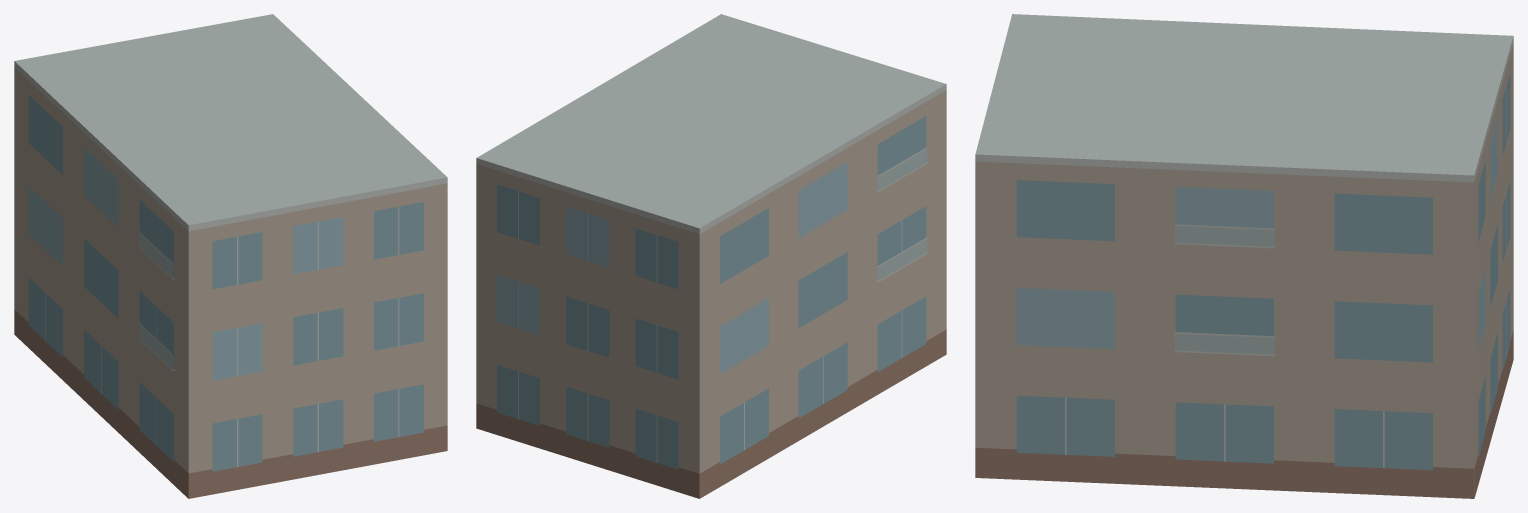
File: survey-upis-32496359.glb
The picture shows the model from 3 angles, left to right: view 1: azimuth 30°, elevation 25°; view 2: azimuth 150°, elevation 25°; view 3: azimuth 270°, elevation 25°; orthographic projection. The views are drawn at different scales.
Visible parts, largest first — view 1: survey-upis-32496359.tmp; view 2: survey-upis-32496359.tmp; view 3: survey-upis-32496359.tmp.
Part boxes in pixels (left/top/right/bottom): survey-upis-32496359.tmp: left=14, top=14, right=447, bottom=498; survey-upis-32496359.tmp: left=476, top=14, right=946, bottom=498; survey-upis-32496359.tmp: left=975, top=14, right=1513, bottom=498.
Size of the model in its own units: 12.06 by 11.25 by 16.98.
